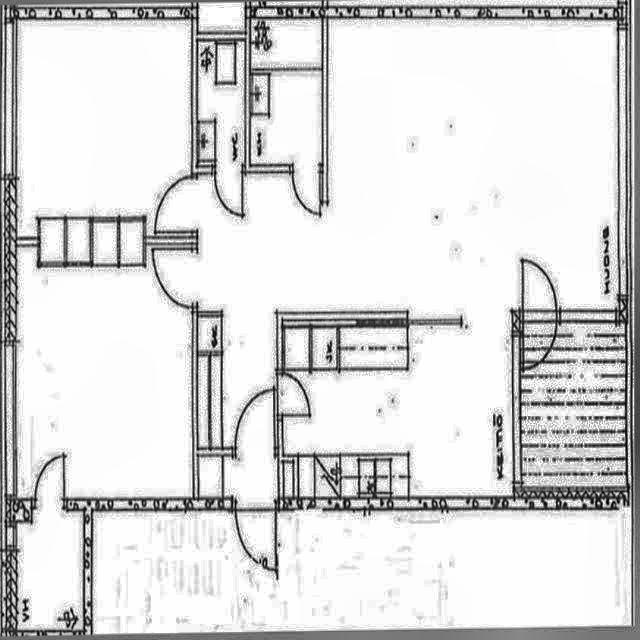room: (17, 247, 193, 496), (17, 19, 192, 236), (520, 323, 626, 487), (250, 20, 322, 164), (16, 508, 84, 631), (198, 42, 244, 164)
